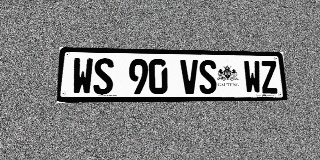0: (149, 59, 168, 94)
9: (129, 59, 148, 94)
S: (93, 58, 114, 95), (198, 60, 217, 94)
V: (180, 59, 199, 94)
W: (72, 58, 93, 95), (243, 60, 262, 94)
Z: (260, 61, 279, 94)
